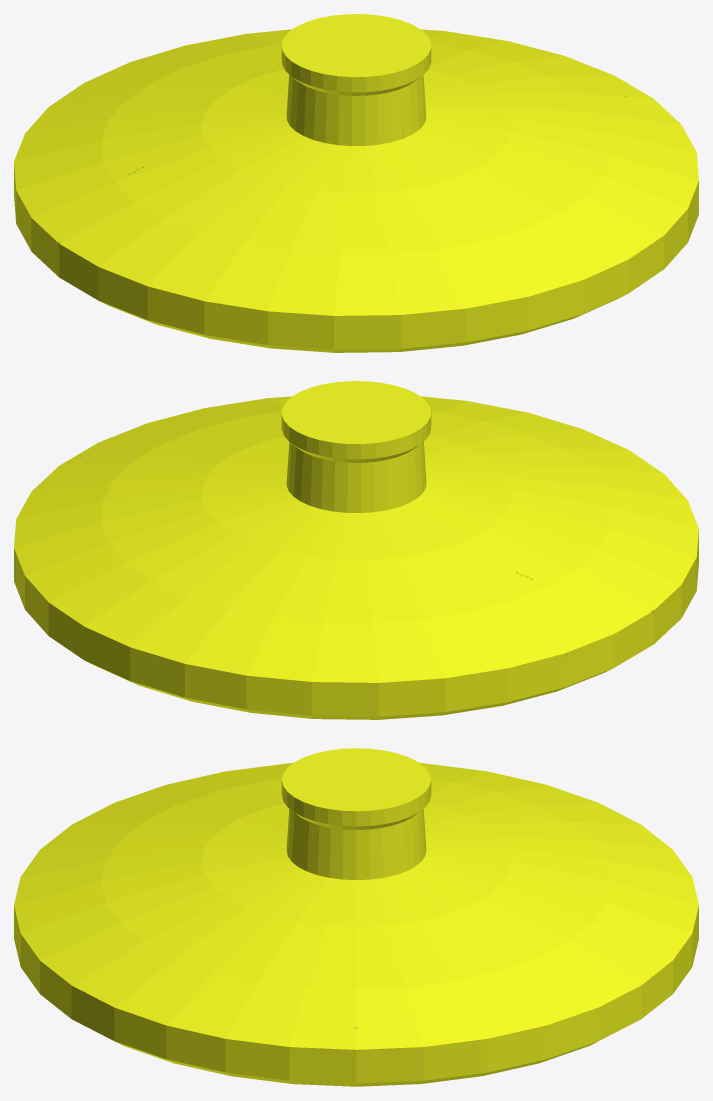
Rendered from Level_0.obj.
3 renders of one model, top to bottom at view 1: azimuth 30°, elevation 25°; view 2: azimuth 150°, elevation 25°; view 3: azimuth 270°, elevation 25°, orthographic.
Visible parts, largest first — view 1: Level_0_Cylinder.002; view 2: Level_0_Cylinder.002; view 3: Level_0_Cylinder.002.
Boxes of the visible parts, box(x1,y1,x2,y2) form: Level_0_Cylinder.002: box(14, 14, 698, 352); Level_0_Cylinder.002: box(14, 381, 698, 719); Level_0_Cylinder.002: box(14, 748, 698, 1086).
Bounding box in the file's own units: 5 × 1.36 × 5.
